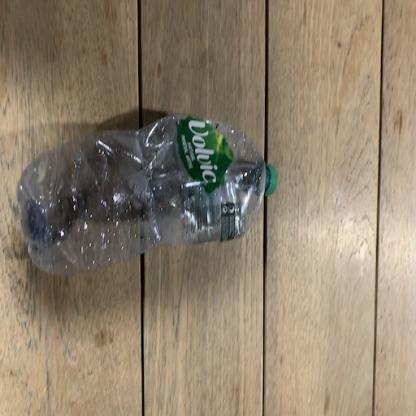trash: (14, 110, 279, 278)
